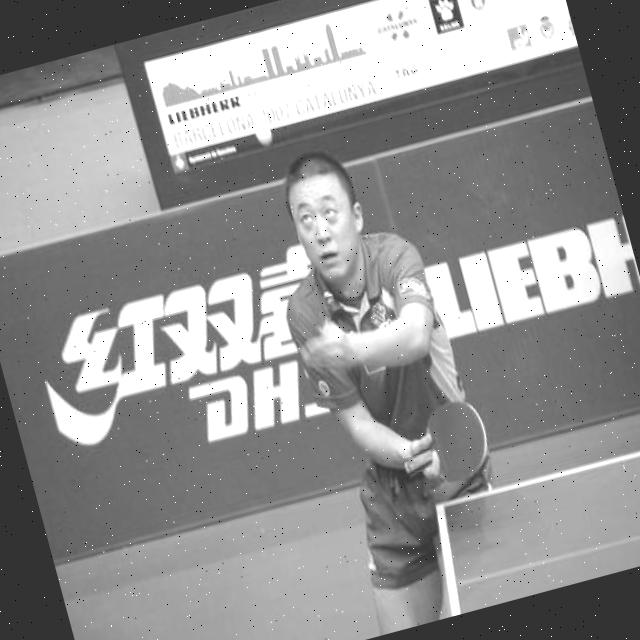ping-pong-ball: (251, 118, 275, 148)
